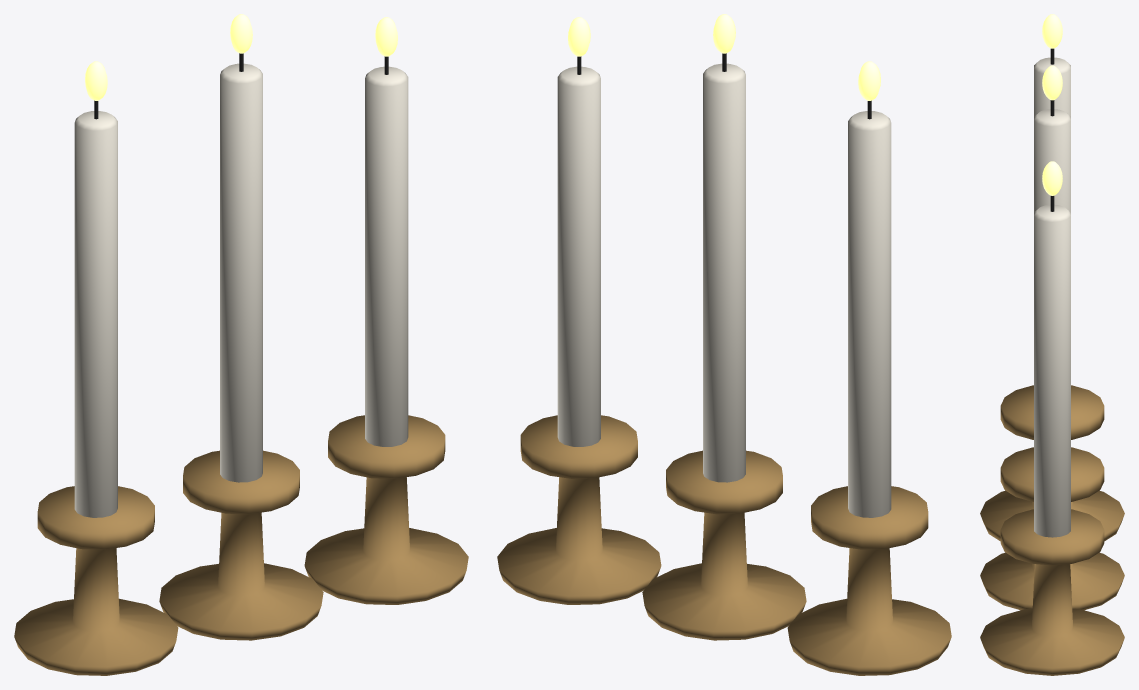
File: i_candles_3.glb
3 views of the same model, side by side, from view 1: azimuth 30°, elevation 25°; view 2: azimuth 150°, elevation 25°; view 3: azimuth 270°, elevation 25° (orthographic). The views are drawn at different scales.
Visible parts, largest first — view 1: o.005, o.001, o, o.008, o.004, o.009, o.007, o.011, o.003; view 2: o.005, o.001, o, o.008, o.004, o.009, o.007, o.011, o.003; view 3: o.008, o.009, o.004, o, o.005, o.001, o.007, o.003, o.011.
Part boxes in pixels (x1,y1,x2,y2): o.005: (220,63,262,482); o.001: (74,111,117,517); o: (14,486,178,675); o.008: (304,415,468,604); o.004: (159,450,323,640); o.009: (365,66,408,446); o.007: (230,14,252,53); o.011: (375,17,397,56); o.003: (85,61,107,100); o.005: (703,63,745,482); o.001: (848,111,891,517); o: (787,486,951,675); o.008: (497,415,661,604); o.004: (642,450,806,640); o.009: (557,66,600,446); o.007: (713,14,735,53); o.011: (568,17,590,56); o.003: (858,61,880,100); o.008: (980,509,1124,675); o.009: (1034,204,1070,537); o.004: (980,447,1124,610); o: (980,385,1124,541); o.005: (1034,109,1070,211); o.001: (1034,57,1070,116); o.007: (1042,65,1062,100); o.003: (1042,14,1062,48); o.011: (1042,161,1062,195).
Bounding box in the file's own units: 0.254 × 0.3318 × 0.084.
